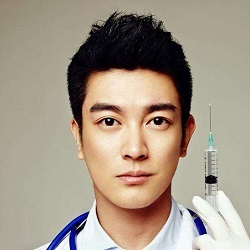unmask: (76, 88, 186, 210)
